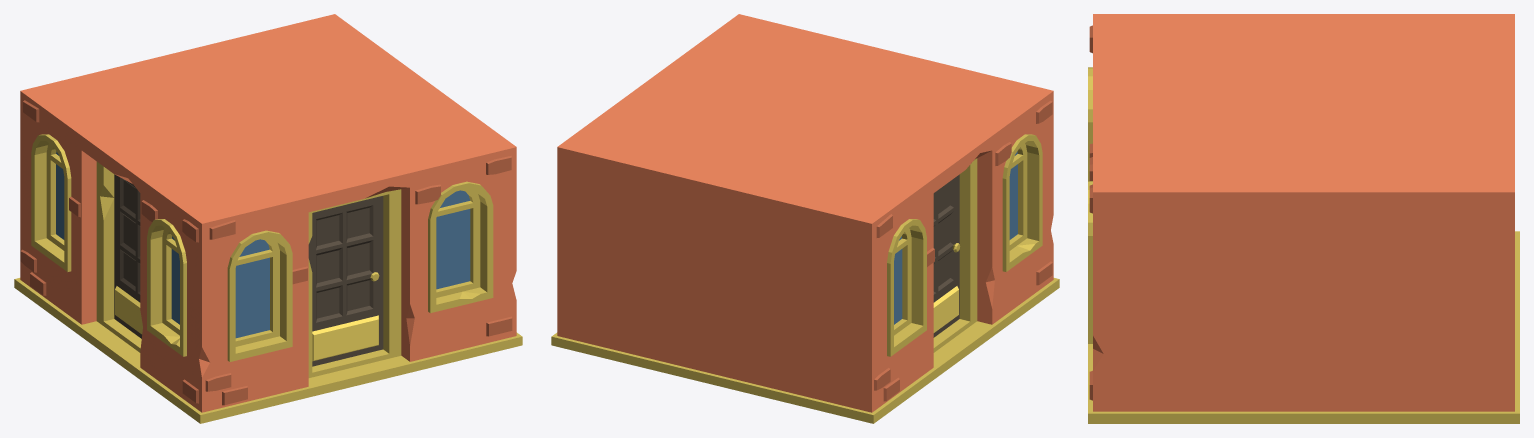
File: Mod_Puerta_2.fbx
3 renders of one model, left to right at view 1: azimuth 30°, elevation 25°; view 2: azimuth 150°, elevation 25°; view 3: azimuth 270°, elevation 25°, orthographic. The views are drawn at different scales.
Visible parts, largest first — view 1: SM_Bld_Apartment_Door_Corner_02; view 2: SM_Bld_Apartment_Door_Corner_02; view 3: SM_Bld_Apartment_Door_Corner_02.
Part boxes in pixels (left/top/right/bottom): SM_Bld_Apartment_Door_Corner_02: left=14, top=14, right=522, bottom=423; SM_Bld_Apartment_Door_Corner_02: left=551, top=14, right=1059, bottom=423; SM_Bld_Apartment_Door_Corner_02: left=1088, top=14, right=1519, bottom=423.
Bounding box in the file's own units: 5.12 × 3 × 5.12.
